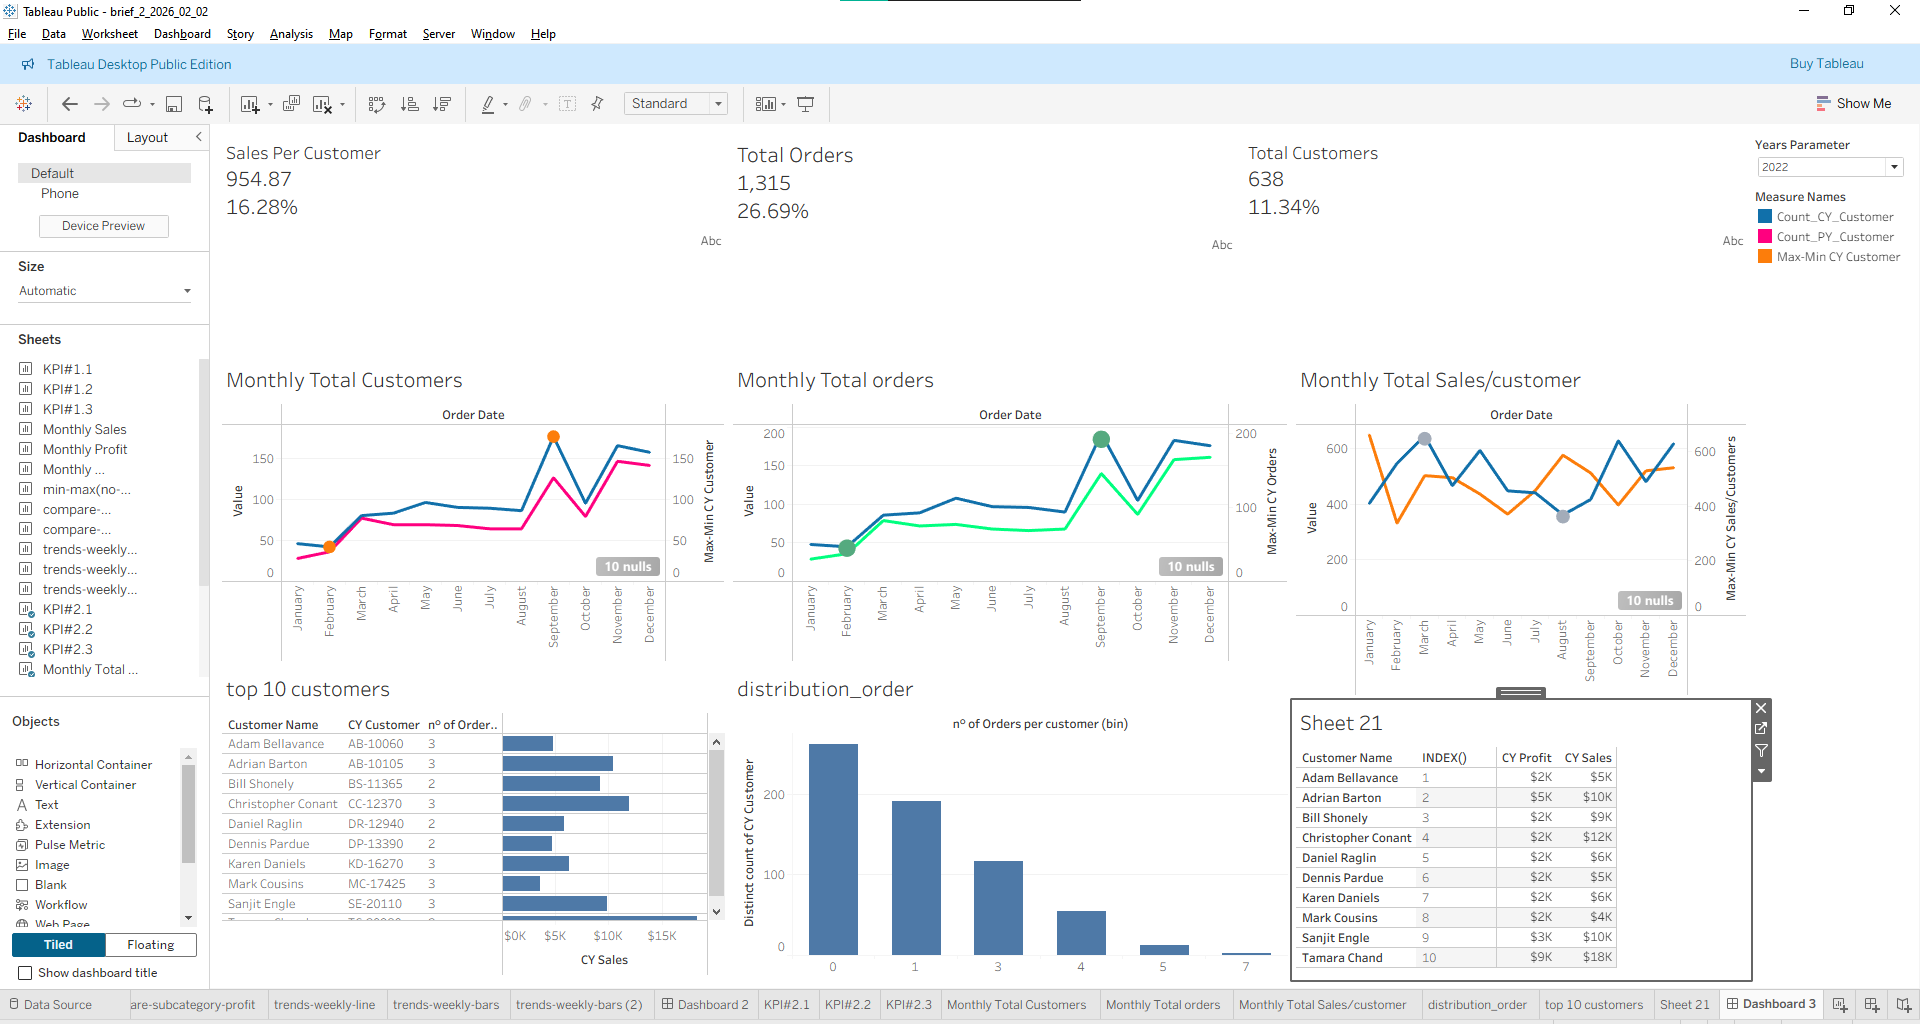

What the dashboard file says about the page in this screenshot:
{"tool":"tableau","page":{"name":"Dashboard 3","canvas":[1000,1000],"units":"permille","ordinal":1},"visuals":[{"type":"worksheet","title":"KPI#2.2","mark":"Automatic","box":[4.7,9.3,299,260.4]},{"type":"worksheet","title":"KPI#2.3","mark":"Automatic","box":[303.7,9.3,299,260.4]},{"type":"worksheet","title":"KPI#2.1","mark":"Automatic","box":[602.7,9.3,299,260.4]},{"type":"parameter","param":"[Parameters].[Years Parameter]","box":[901.7,9.3,93.6,60.2]},{"type":"legend","title":"Monthly Total Customers","param":"[federated.05vuce002pd27j1f07jv50qctfzz].[:Measure Names]","box":[901.7,69.5,93.6,99.5]},{"type":"worksheet","title":"Monthly Total Customers","mark":"Line","rows":["Calculation_1048419960606750"],"cols":["Order Date"],"box":[4.7,269.7,299,357.6]},{"type":"worksheet","title":"Monthly Total orders","mark":"Line","rows":["Max-Min CY Customer (copy)_1048419962814495"],"cols":["Order Date"],"box":[303.7,269.7,329.4,357.6]},{"type":"worksheet","title":"Monthly Total Sales/customer","mark":"Automatic","rows":["Max-Min CY Orders (copy)_1048419963133984"],"cols":["Order Date"],"box":[633.1,269.7,268.6,397]},{"type":"worksheet","title":"top 10 customers","mark":"Automatic","rows":["Customer Name","CY Order (copy)_1048419903512588","Calculation_1048419966754849"],"cols":["Calculation_1256776635076613"],"box":[4.7,627.3,299,363.4]},{"type":"worksheet","title":"distribution_order","mark":"Bar","rows":["CY Order (copy)_1048419903512588"],"cols":["n° of Orders per customer (bin)"],"box":[303.7,627.3,329.4,363.4]},{"type":"worksheet","title":"Sheet 21","mark":"Automatic","rows":["Customer Name","Calculation_1048420604882982"],"box":[633.1,666.7,268.6,324.1]}]}

Visuals, with their boxes on the dashboard's canvas, which has no fixed pixel size, in thousandths of its width and height (x1, y1, x2, y2). These are canvas units, not pixel positions in the 1920x1024 screenshot, which may show the page scaled, cropped or inside an application window:
"KPI#2.2" worksheet: box(5, 9, 304, 270)
"KPI#2.3" worksheet: box(304, 9, 603, 270)
"KPI#2.1" worksheet: box(603, 9, 902, 270)
parameter: box(902, 9, 995, 70)
"Monthly Total Customers" legend: box(902, 70, 995, 169)
"Monthly Total Customers" worksheet (Line marks): box(5, 270, 304, 627)
"Monthly Total orders" worksheet (Line marks): box(304, 270, 633, 627)
"Monthly Total Sales/customer" worksheet: box(633, 270, 902, 667)
"top 10 customers" worksheet: box(5, 627, 304, 991)
"distribution_order" worksheet (Bar marks): box(304, 627, 633, 991)
"Sheet 21" worksheet: box(633, 667, 902, 991)
